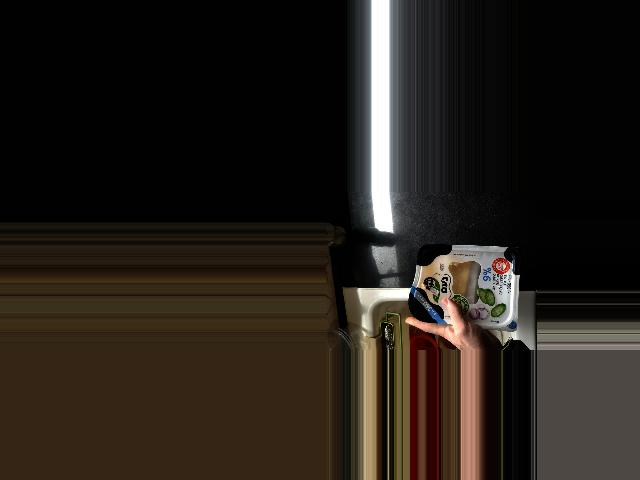cheese: (408, 245, 516, 330)
